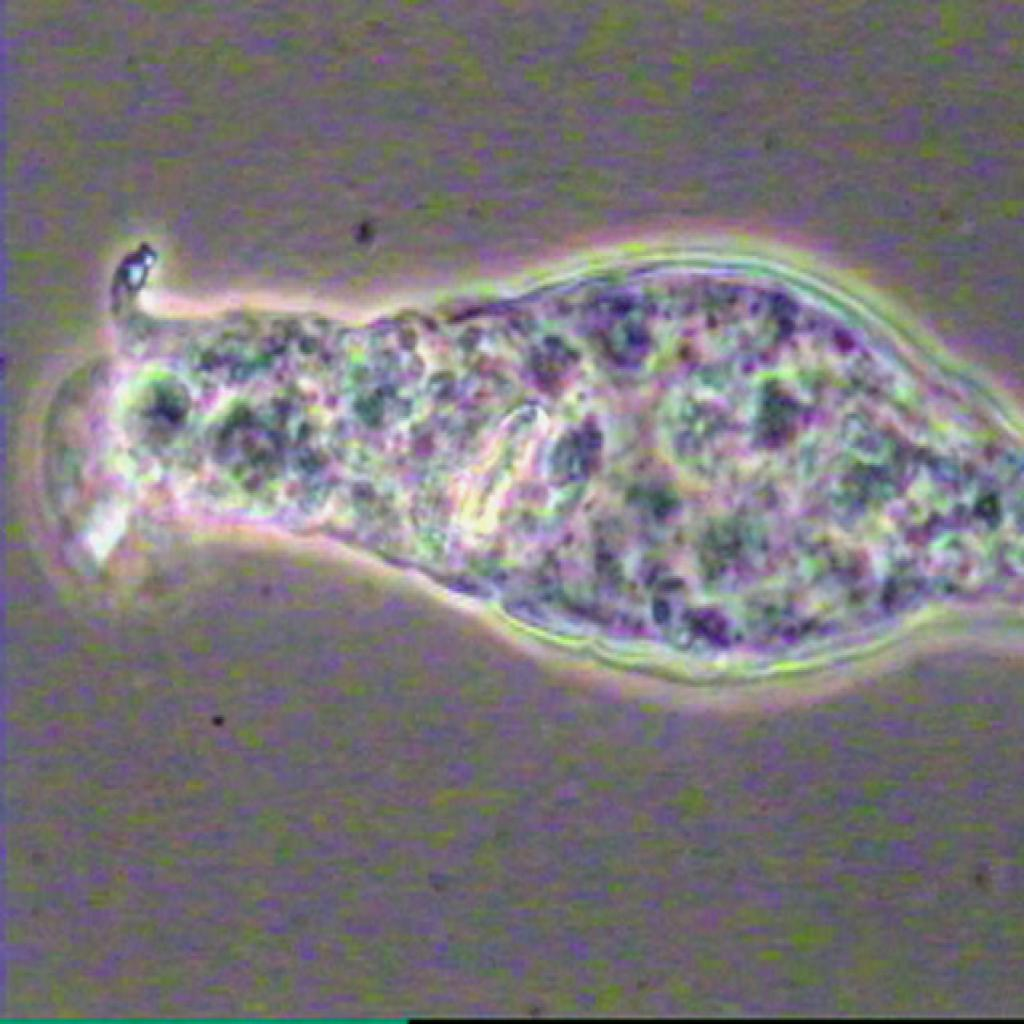Rotatoria: (49, 208, 1023, 720)
